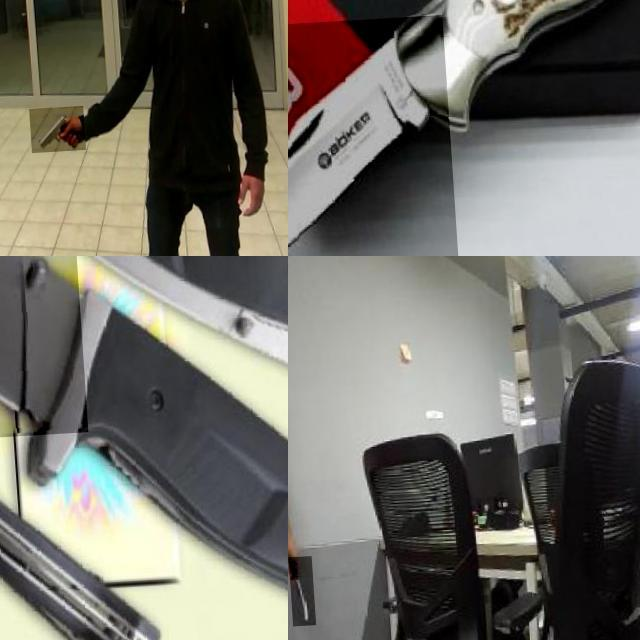-: (288, 18, 452, 256), (0, 256, 174, 451), (288, 559, 308, 629)
gun-knife-thesis - v11 Yolov5 augmented: (23, 110, 79, 157)
